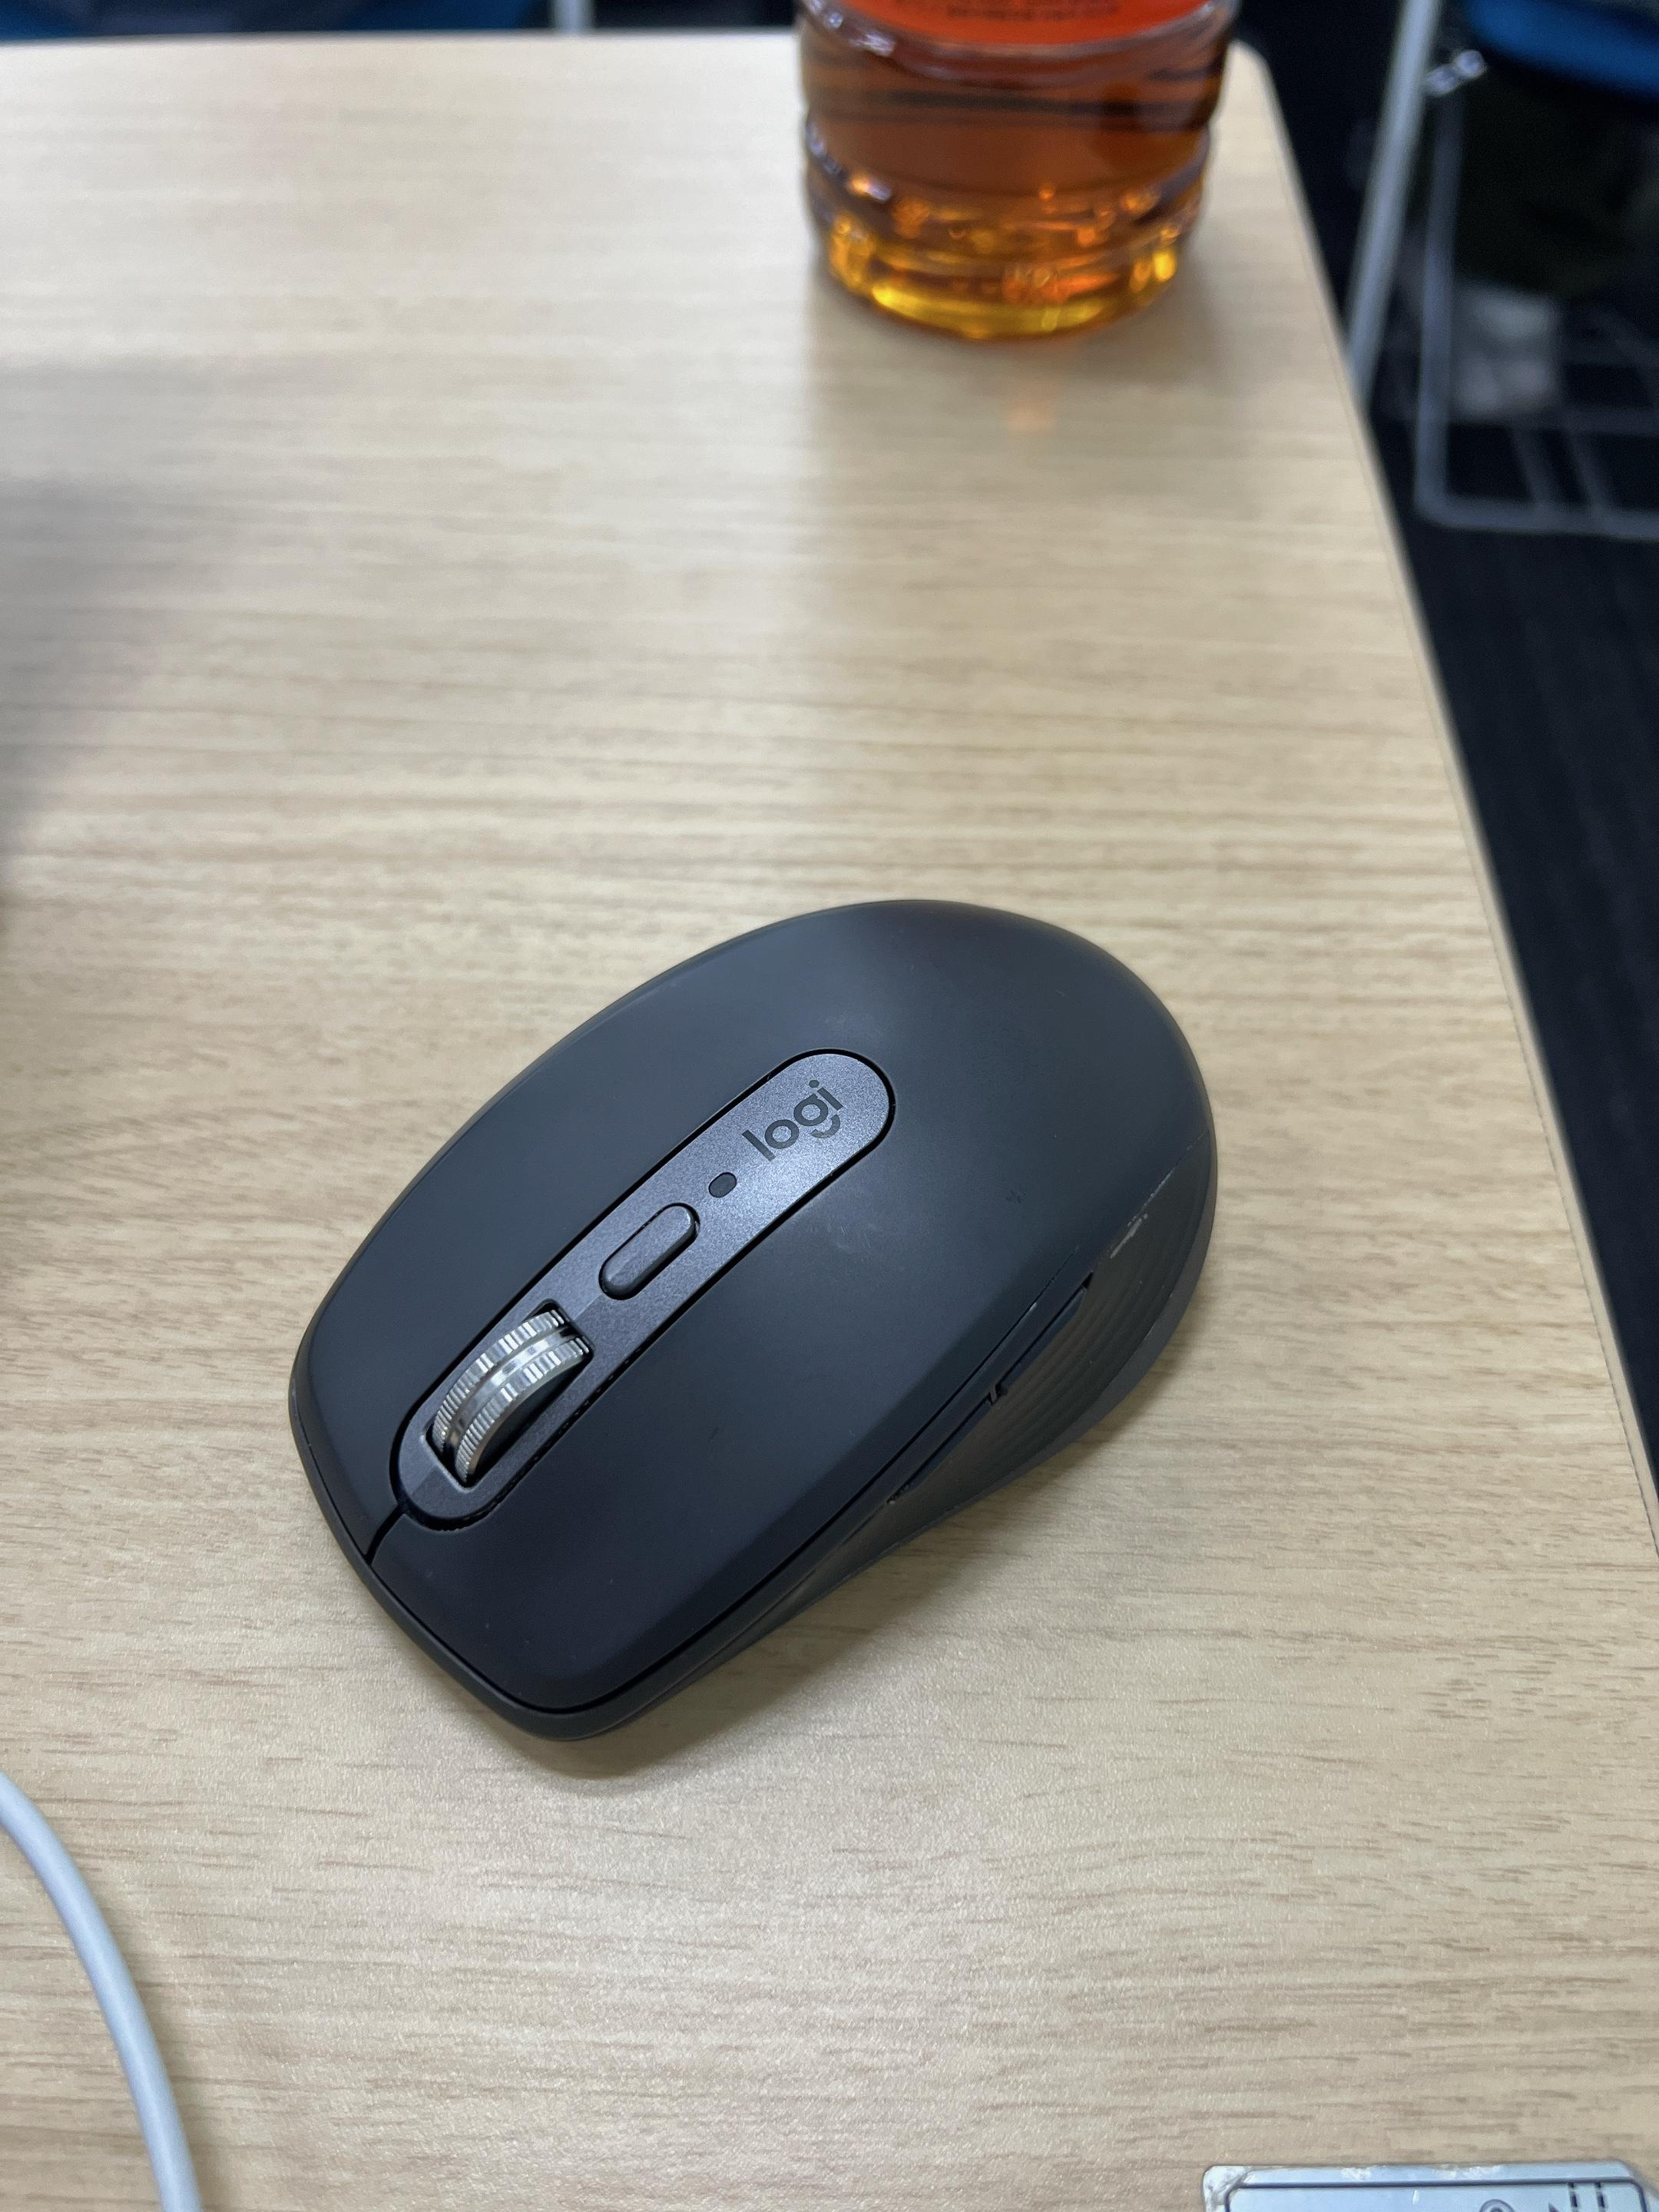mouse: (286, 792, 1288, 1801)
